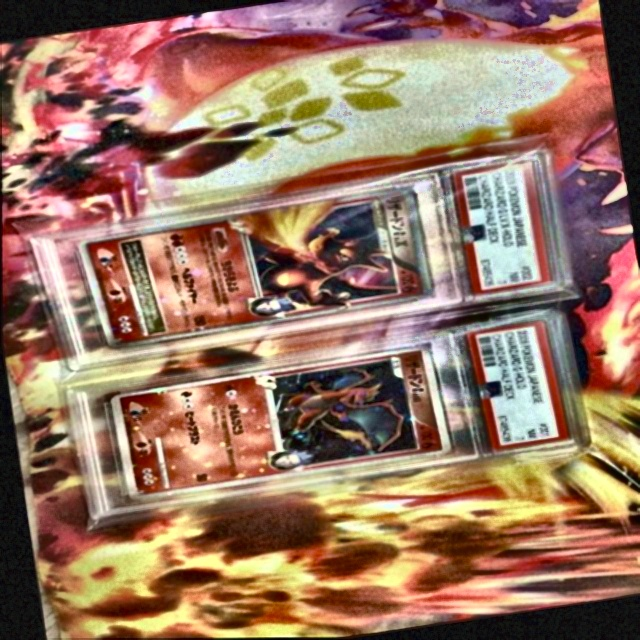card: (77, 186, 433, 349), (109, 346, 452, 500)
